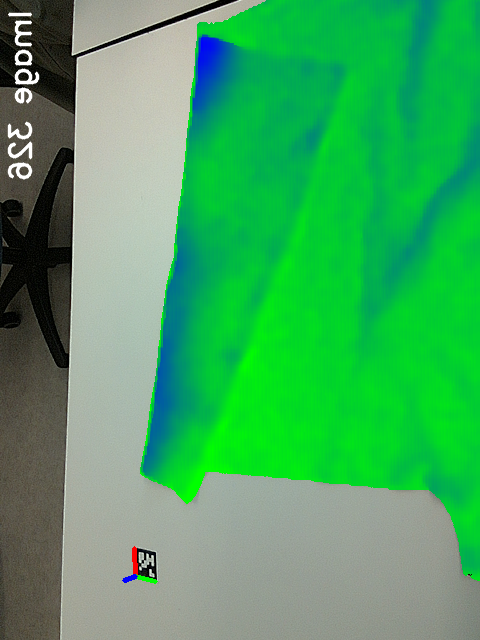V: (312, 44, 357, 96)
